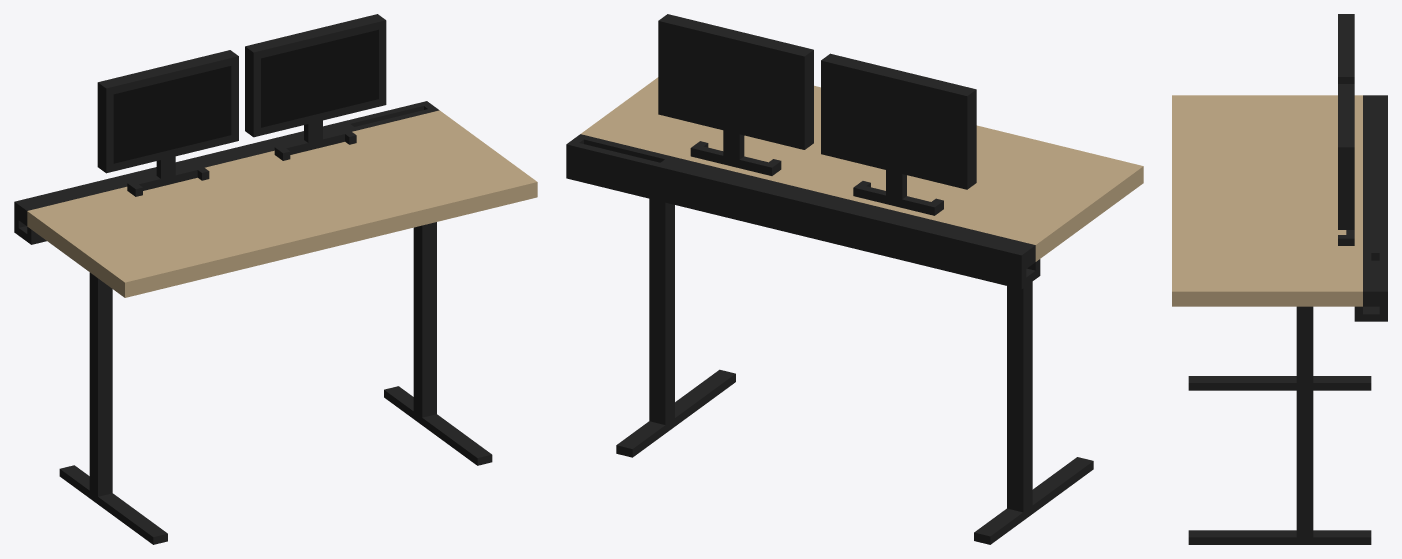
Rendered from desk_computer.obj.
3 renders of one model, left to right at view 1: azimuth 30°, elevation 25°; view 2: azimuth 150°, elevation 25°; view 3: azimuth 270°, elevation 25°, orthographic. The views are drawn at different scales.
Bounding box in the file's own units: 5.6 × 5.1 × 2.6.
1 material, 1 textured.
